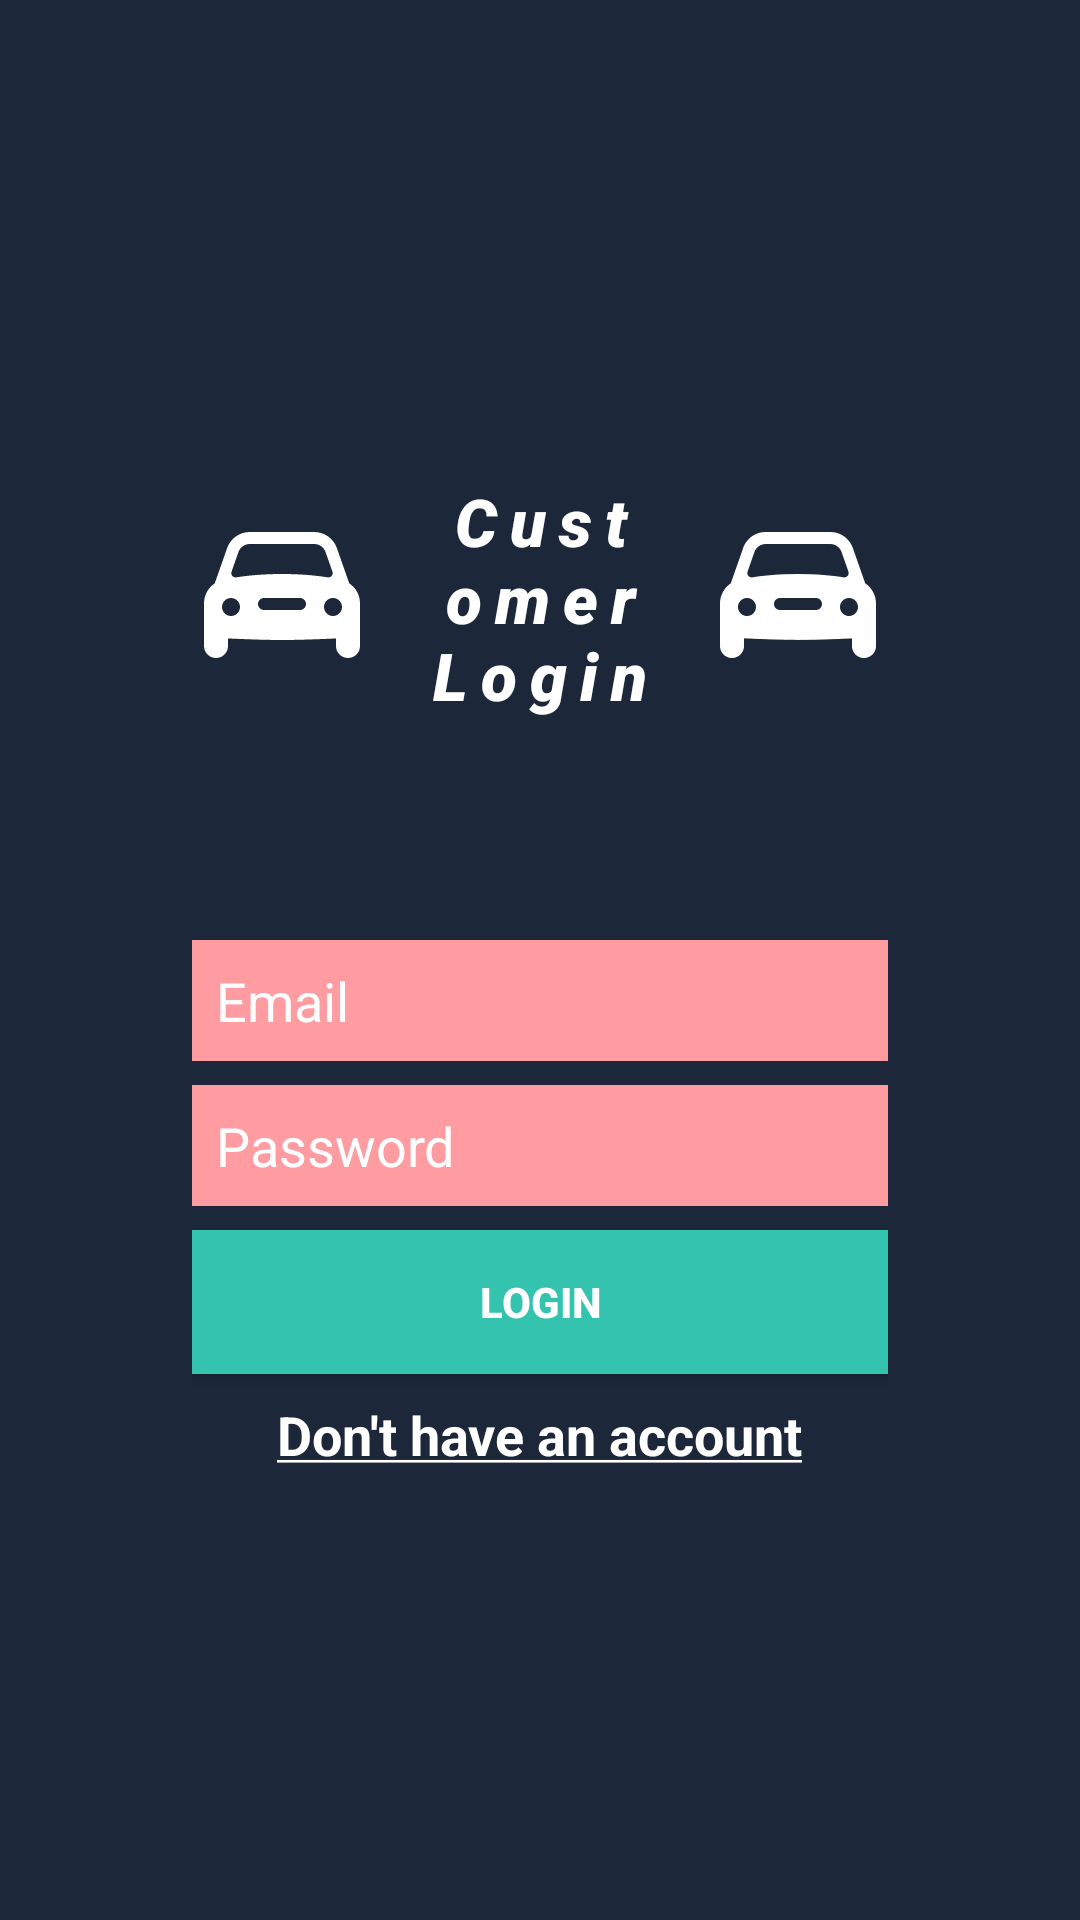

Icon click points for this 1080w x 1920h phone screenshot, format (x=x, y=y):
car: (x=282, y=595), (x=798, y=595)
